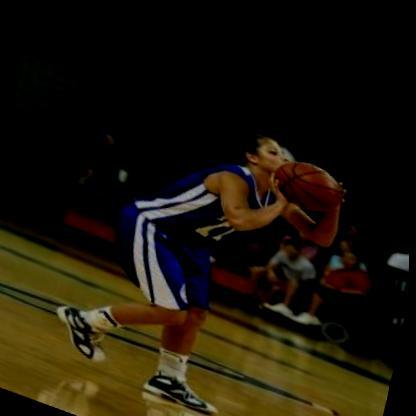basketball: (266, 135, 350, 212)
